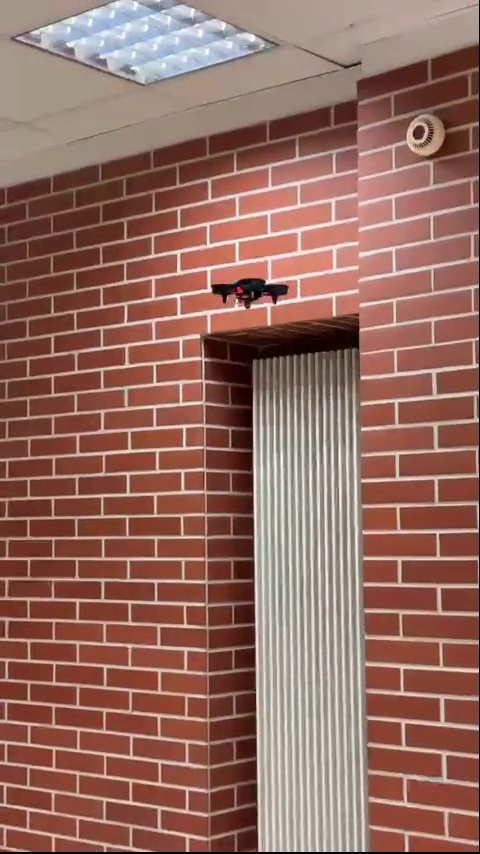drone: (211, 275, 289, 304)
